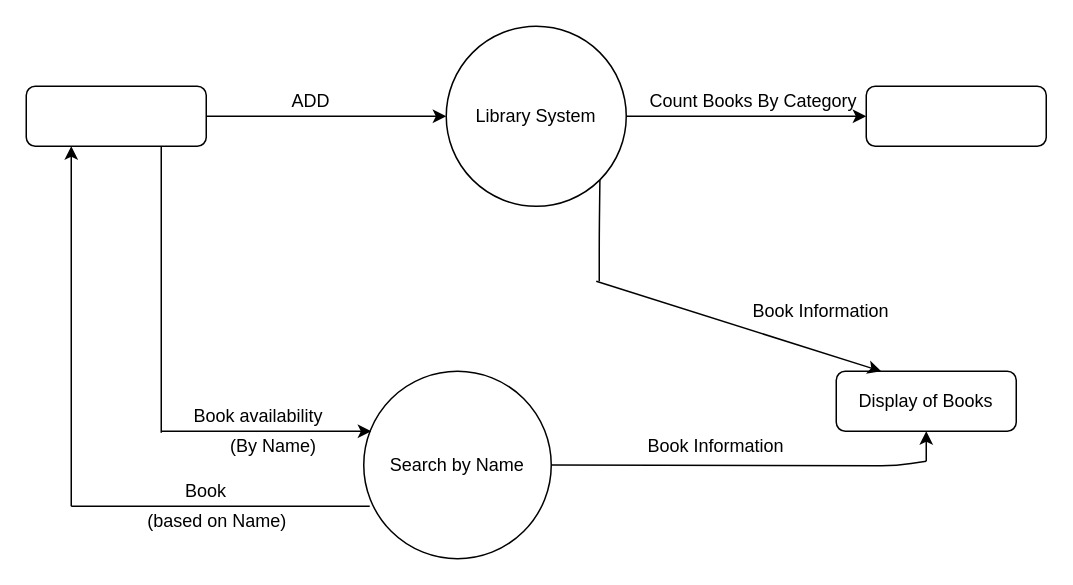
This 1073x585 diagram has some shape labels left out. The shapes that lost their labels are listed below. From the top down, each one's box as (x1, y1, x2, y2) in pixels, then its label:
(25, 85, 206, 146): Librarian
(865, 85, 1046, 146): Display Count in that Category
